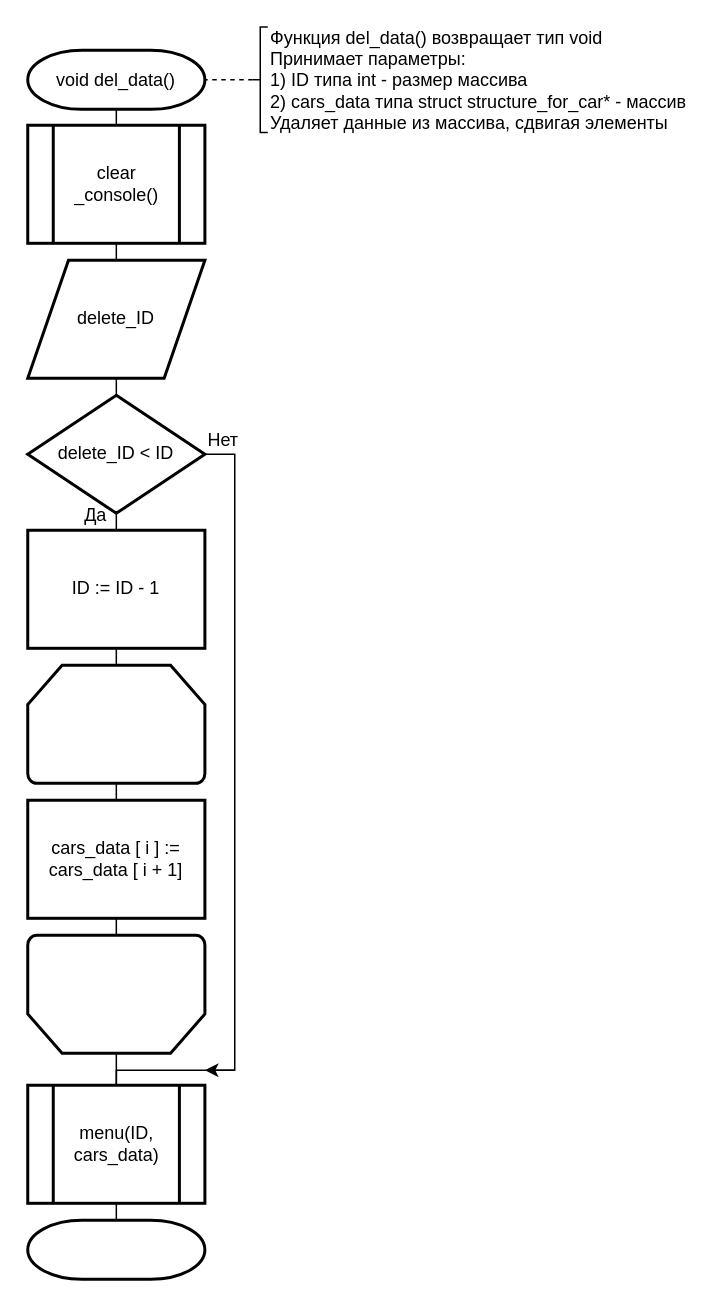
The diagram is 711 pixels wide and 1307 high, and some of its shapes have lost their labels. The centre of each missing label's shape, as x and y in pixels:
"i := 0 i < ID" goes at [116,723].
"i := i + 1" goes at [116,993].
"Конец" goes at [116,1249].
